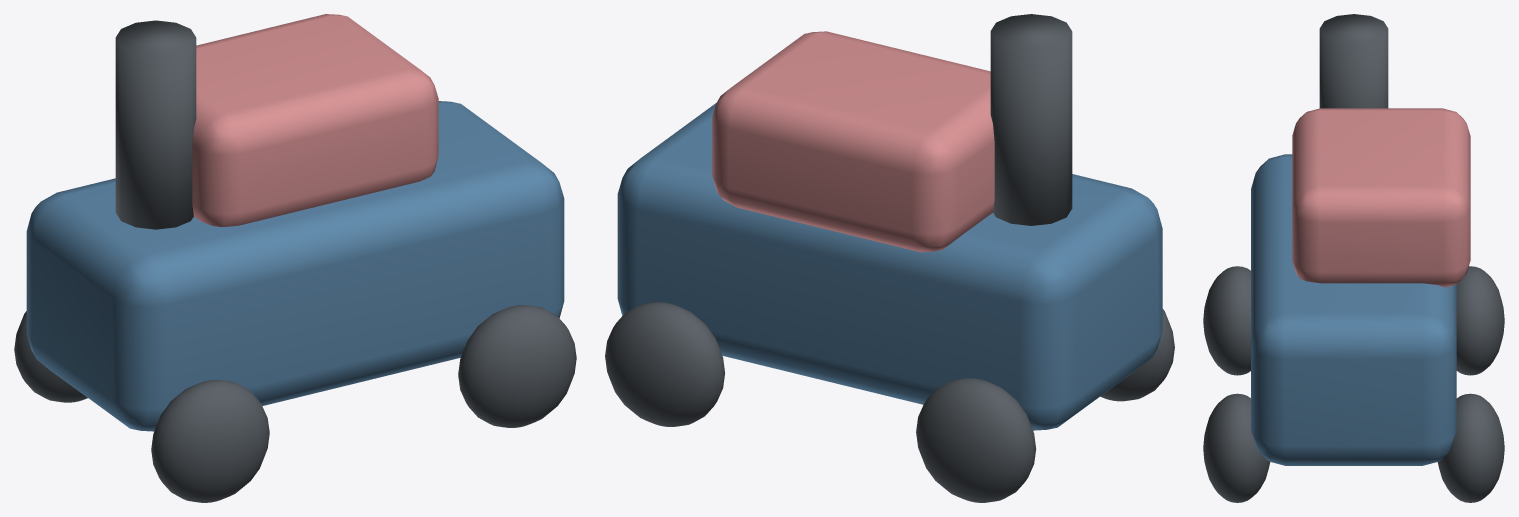
Rendered from atelier-toy-train.glb.
3 views of the same model, side by side, from view 1: azimuth 30°, elevation 25°; view 2: azimuth 150°, elevation 25°; view 3: azimuth 270°, elevation 25° (orthographic). The views are drawn at different scales.
Visible parts, largest first — view 1: artBlue.032, flower.007, metal.170; view 2: artBlue.032, flower.007, metal.170; view 3: artBlue.032, flower.007, metal.170.
Part boxes in pixels (left/top/right/bottom): artBlue.032: left=26, top=101, right=564, bottom=431; flower.007: left=192, top=14, right=438, bottom=226; metal.170: left=14, top=20, right=576, bottom=502; artBlue.032: left=617, top=103, right=1162, bottom=430; flower.007: left=712, top=31, right=994, bottom=252; metal.170: left=605, top=14, right=1174, bottom=502; artBlue.032: left=1251, top=154, right=1456, bottom=465; flower.007: left=1292, top=108, right=1470, bottom=287; metal.170: left=1203, top=14, right=1504, bottom=502.
Bounding box in the file's own units: 0.32 × 0.28 × 0.22.
